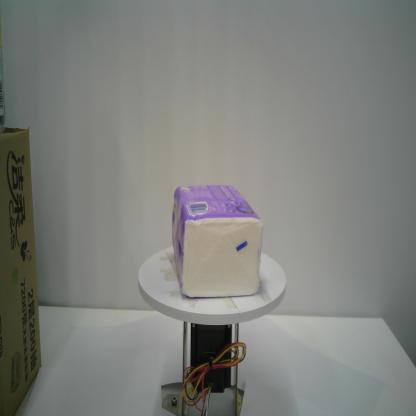Tissue: (170, 181, 265, 301)
